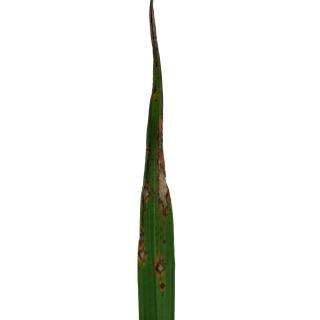Blast: (156, 150, 167, 218), (141, 178, 155, 210), (153, 254, 169, 281), (138, 240, 149, 269), (158, 282, 168, 292)
